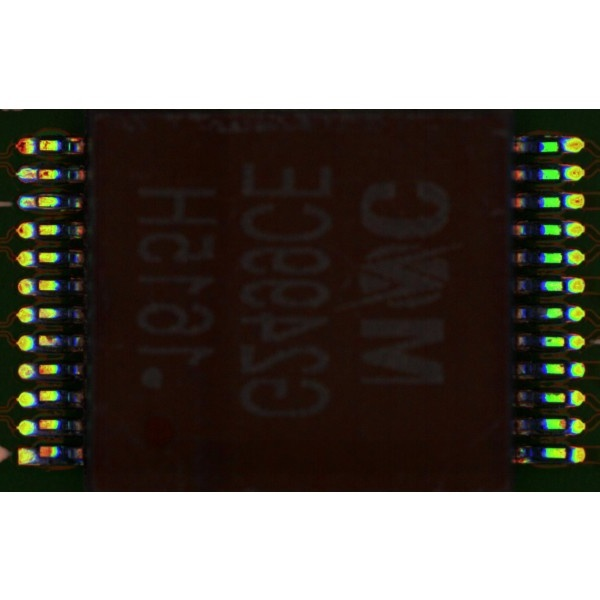Bad_podu: (27, 172, 49, 180), (25, 199, 48, 205)
